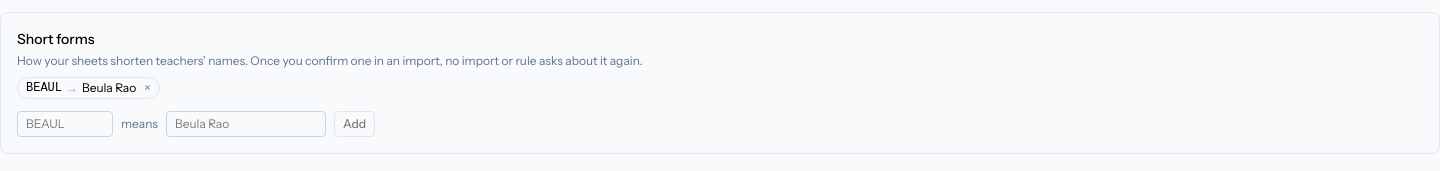
Test: ShortFormsPanel › lists only its kind and forgets one
Expected: the text "BEAUL" is shown, [26,80,62,96]
Click the button named "Forget BEAUL". click: click(147, 88)
box: [144,80,151,96]
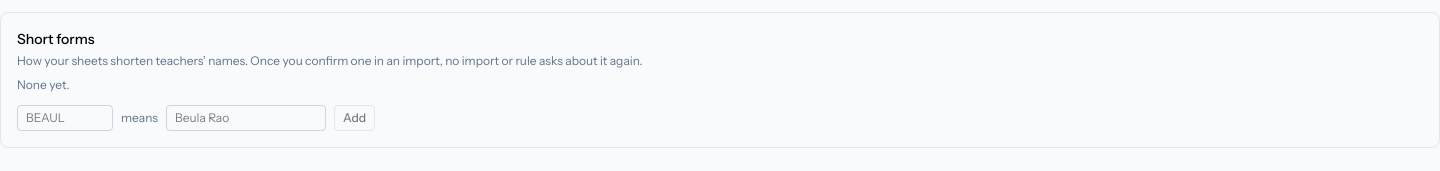
Expected: the text "None yet." is shown, [17,77,70,92]
